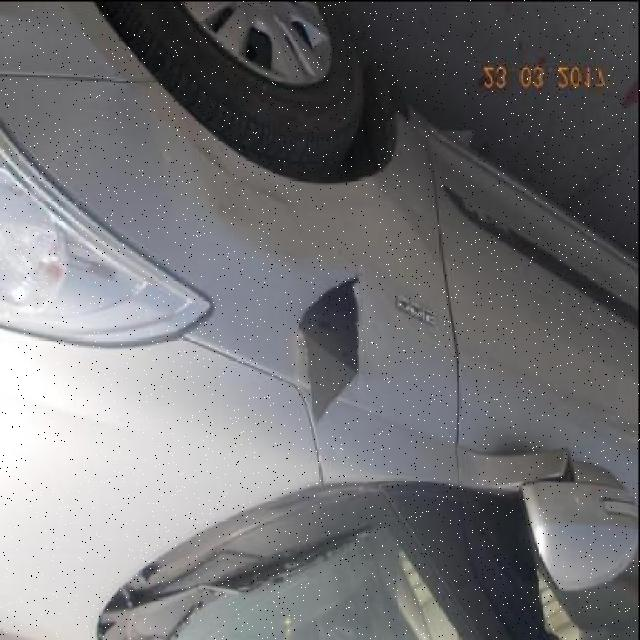damage: (301, 269, 365, 425)
